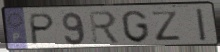9: (61, 11, 87, 46)
G: (120, 9, 151, 44)
I: (195, 7, 209, 43)
P: (29, 13, 56, 47)
R: (87, 10, 122, 45)
Z: (149, 10, 182, 42)
